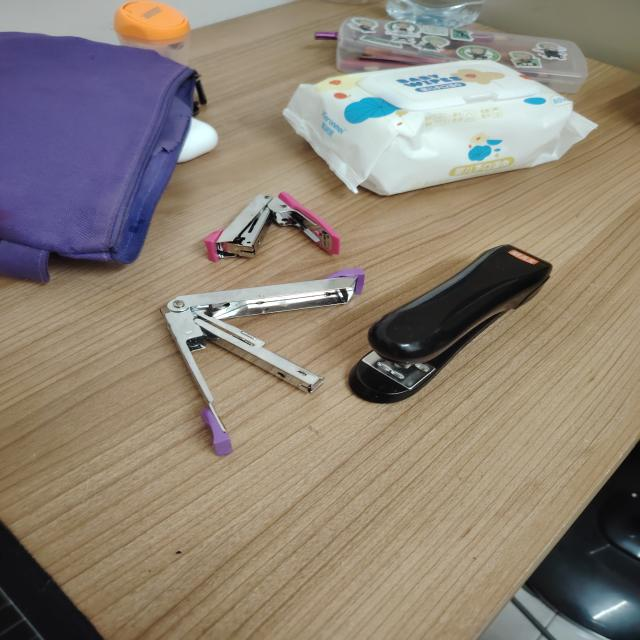sharpener: (114, 0, 190, 65)
stapler: (162, 268, 364, 456), (349, 245, 552, 403), (204, 192, 339, 262)
